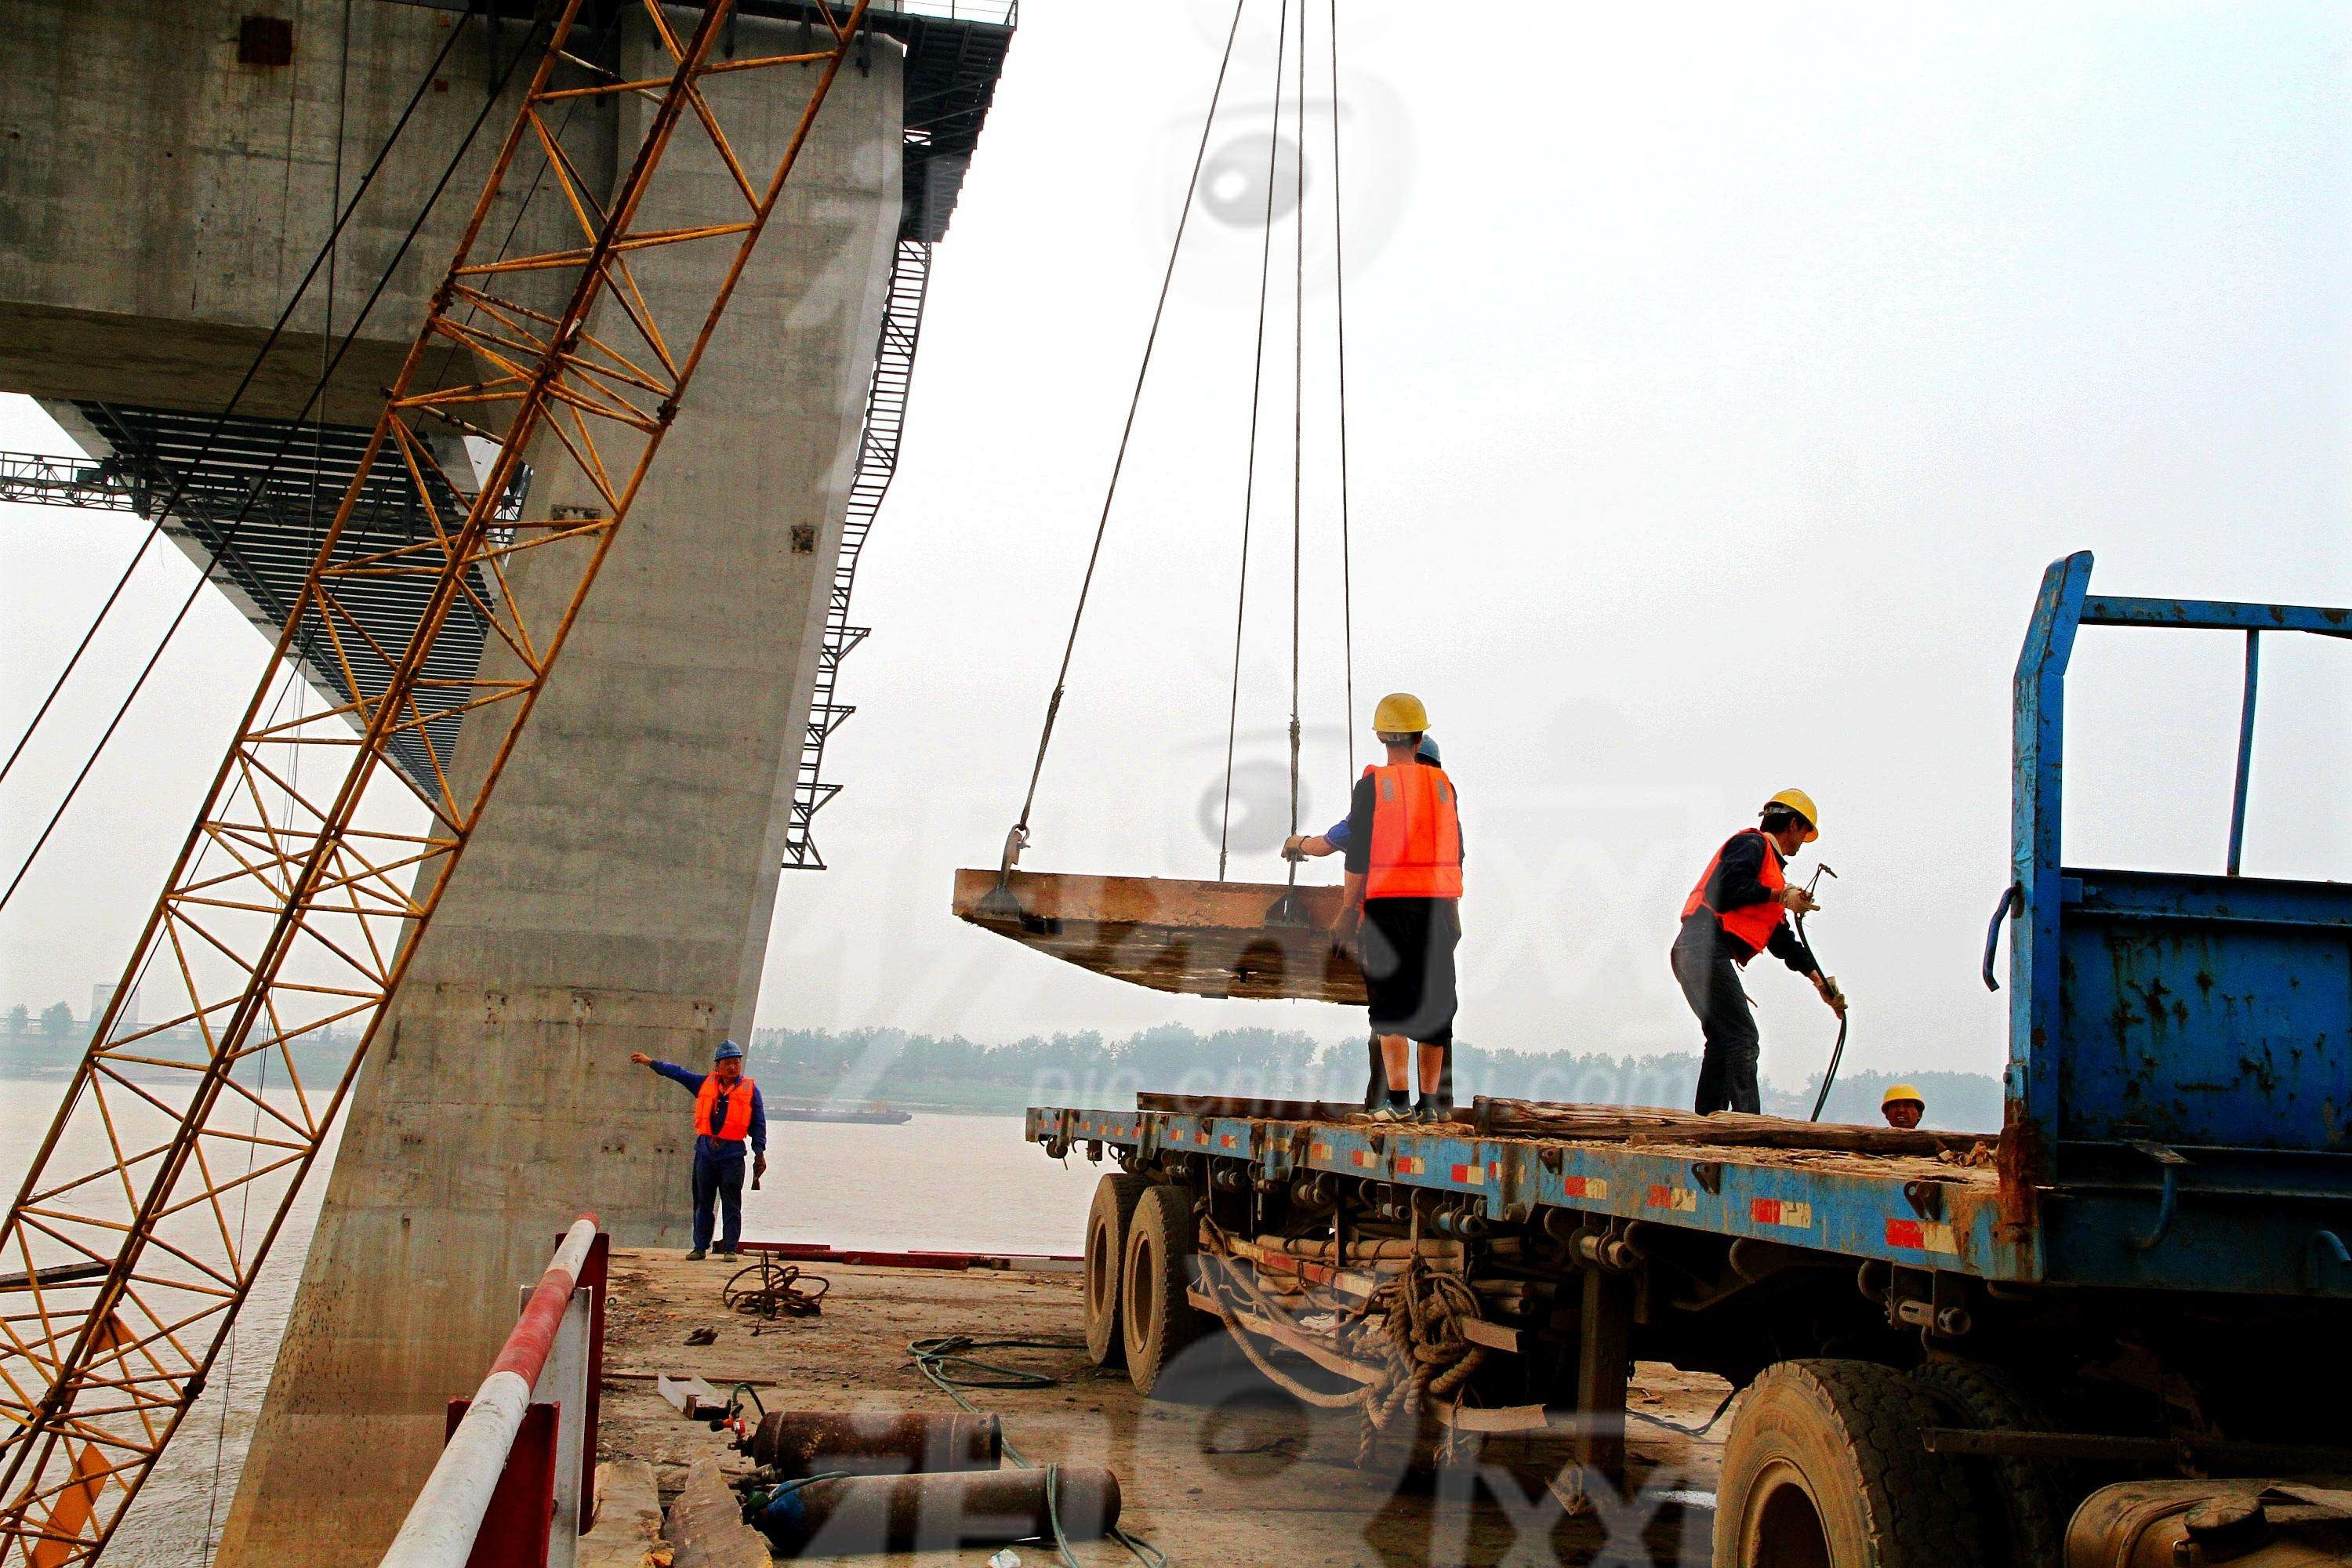blue: (705, 1032, 752, 1083)
yellow: (1363, 683, 1435, 773), (1755, 777, 1824, 866), (1874, 1080, 1928, 1130)
